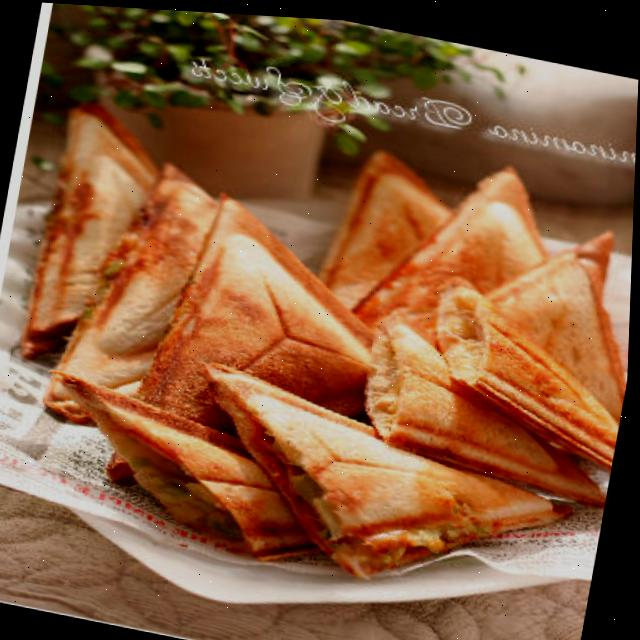三明治: (0, 67, 638, 626)
